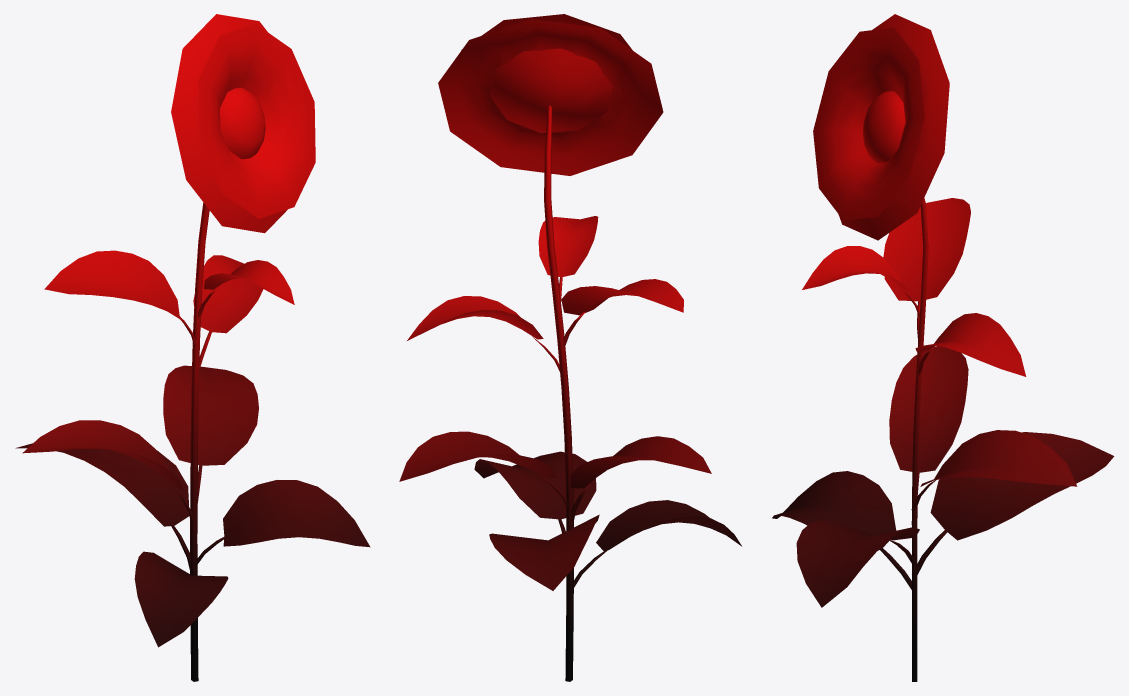
File: Sunflower_1.fbx
The picture shows the model from 3 angles, left to right: view 1: azimuth 30°, elevation 25°; view 2: azimuth 150°, elevation 25°; view 3: azimuth 270°, elevation 25°; orthographic projection.
Parts seen in each view (by area): view 1: Sunflower_1_LOD0; view 2: Sunflower_1_LOD0; view 3: Sunflower_1_LOD0.
Boxes of the visible parts, left/top/right/bottom form: Sunflower_1_LOD0: left=15, top=14, right=370, bottom=681; Sunflower_1_LOD0: left=399, top=14, right=741, bottom=681; Sunflower_1_LOD0: left=772, top=14, right=1114, bottom=681.
Size of what is drawn, in the model's own units: 103 by 225 by 105.
